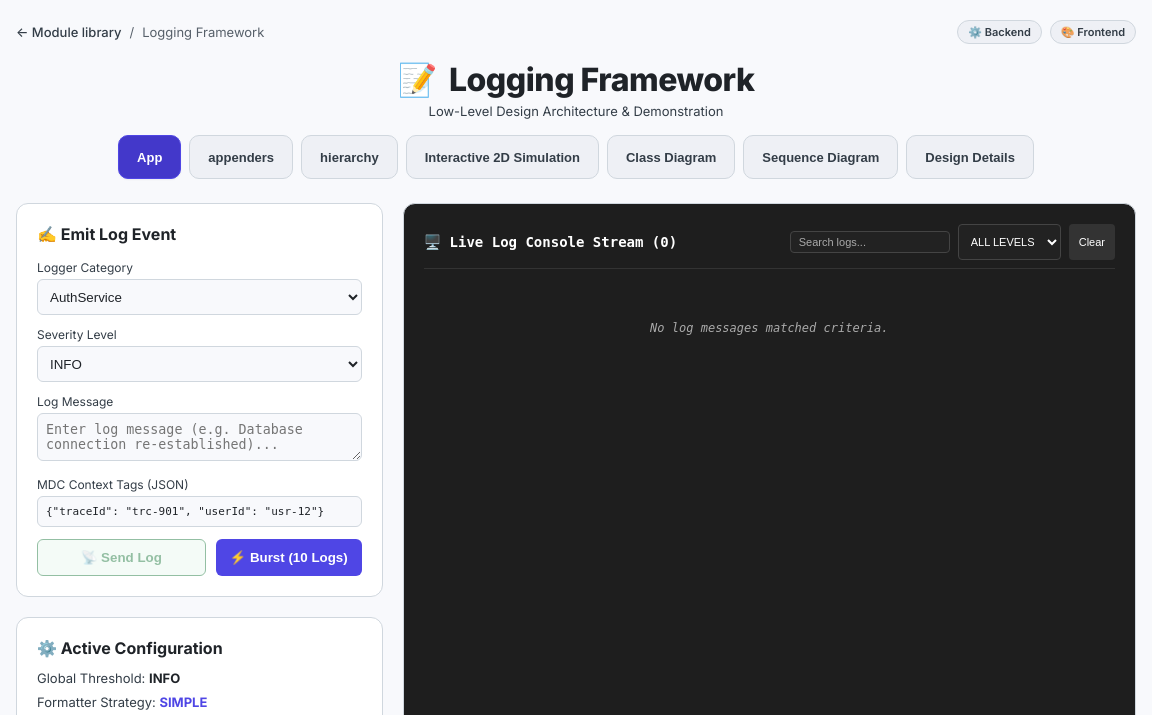
it: Logging workspace › distinguishes a filtered log from one accepted by the server
The width and height of the screenshot is (1152, 715).
Replace the text in the text box labelled "Log Message" with "Below threshold" at (199, 437), box [37,413,362,461]
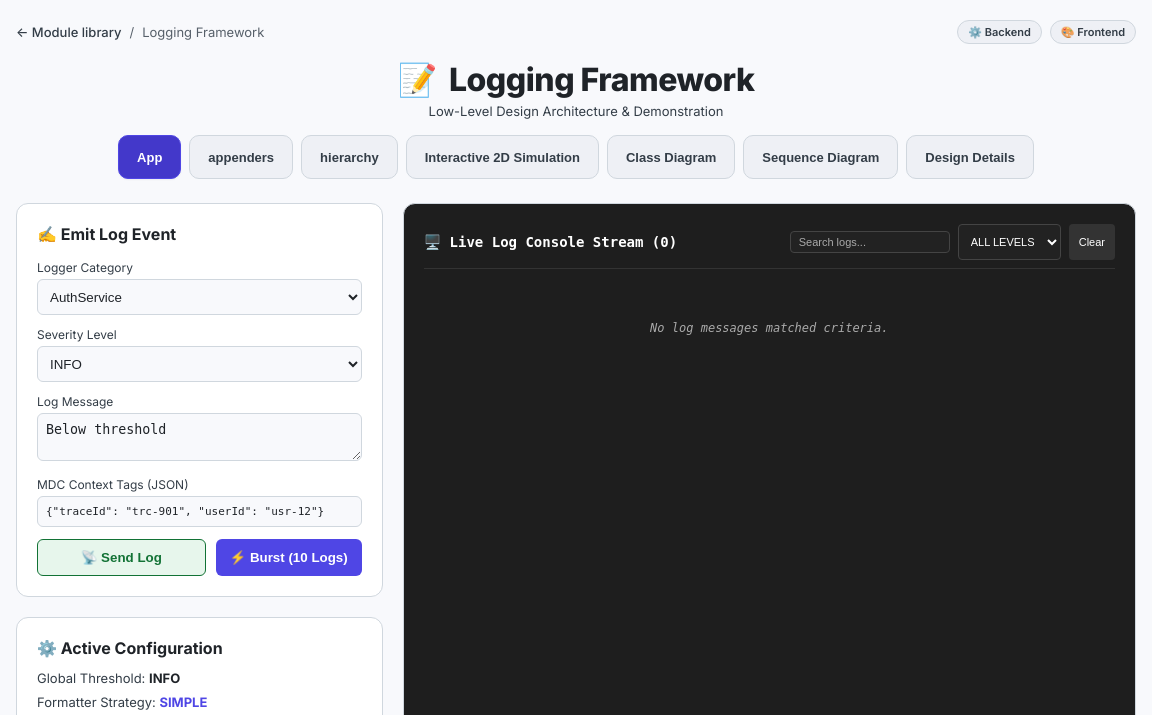
Click the button "📡 Send Log" at (121, 558), box [37,539,206,576]
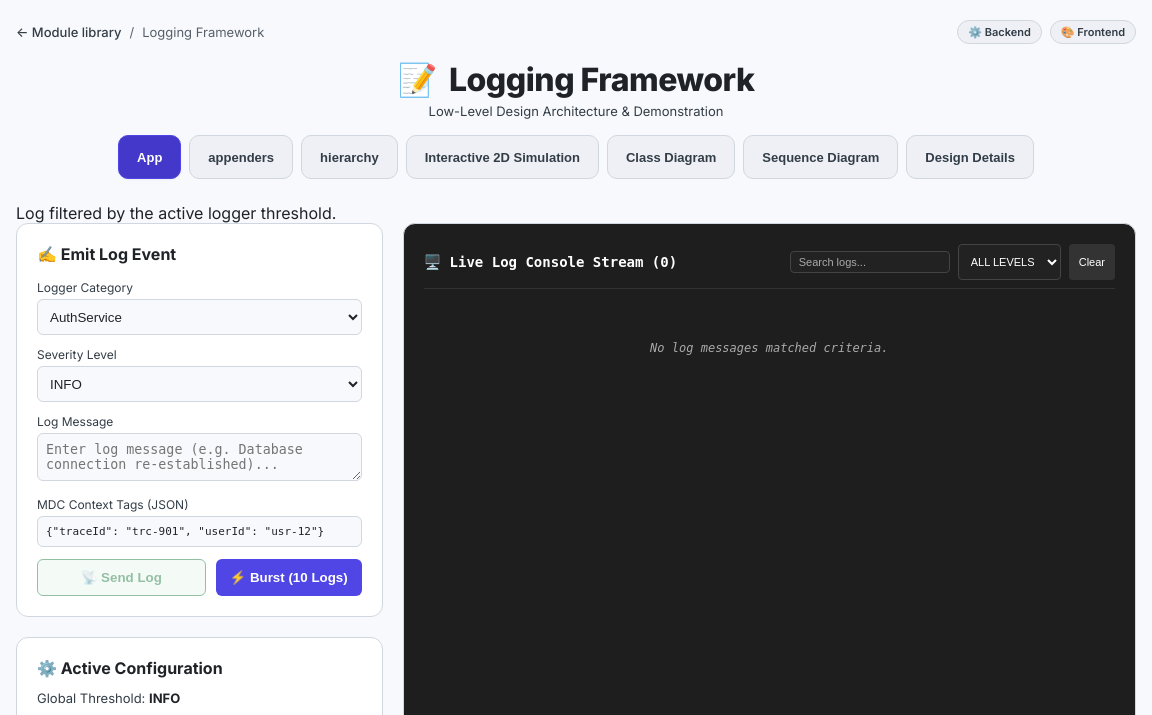
expect the text "Log filtered by the active logger threshold." is shown: met, box [16,203,336,223]
